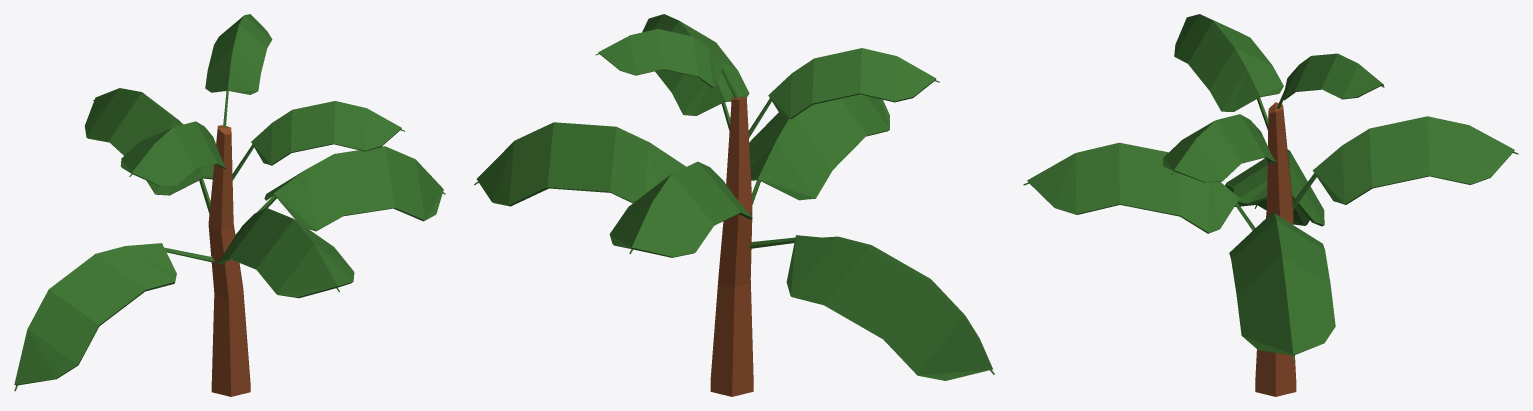
File: bunker47-prop-palm13.glb
3 renders of one model, left to right at view 1: azimuth 30°, elevation 25°; view 2: azimuth 150°, elevation 25°; view 3: azimuth 270°, elevation 25°, orthographic. The views are drawn at different scales.
Visible parts, largest first — view 1: Tree_Tropic_013; view 2: Tree_Tropic_013; view 3: Tree_Tropic_013.
Part boxes in pixels (x1=…): Tree_Tropic_013: x1=14, y1=14, x2=445, y2=396; Tree_Tropic_013: x1=474, y1=14, x2=994, y2=396; Tree_Tropic_013: x1=1023, y1=14, x2=1518, y2=396.
Bounding box in the file's own units: 687 × 487 × 619.
Materials: 1 (1 with a texture image).
